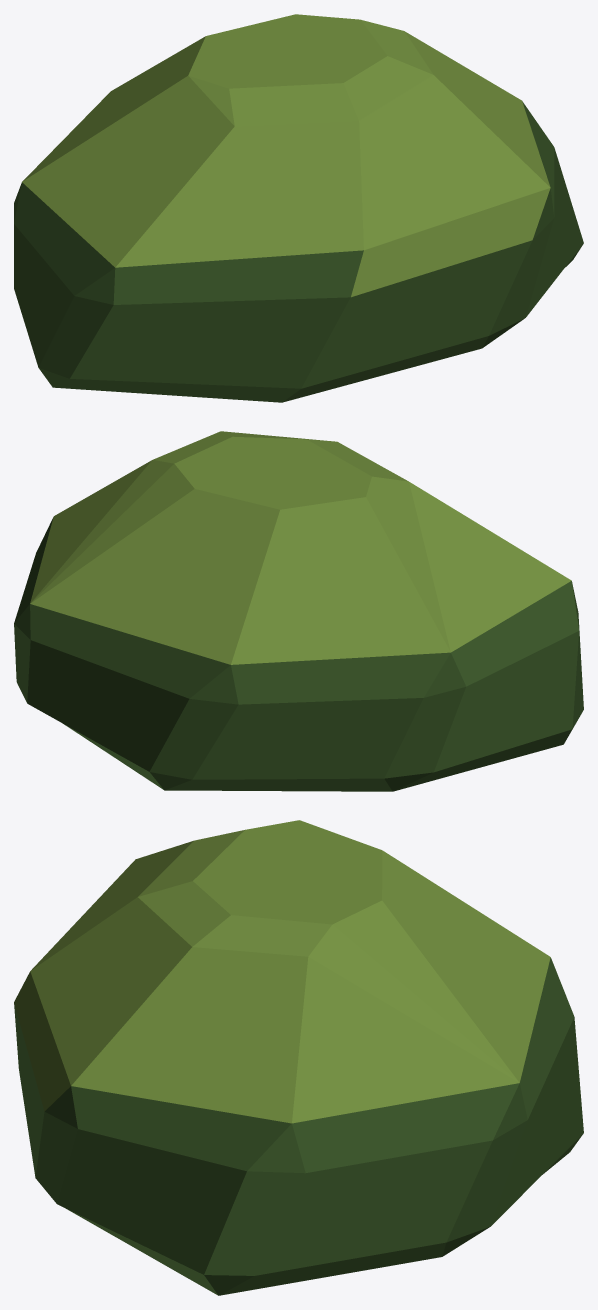
The model's file is gf_stone_mid_c.glb.
3 renders of one model, top to bottom at view 1: azimuth 30°, elevation 25°; view 2: azimuth 150°, elevation 25°; view 3: azimuth 270°, elevation 25°, orthographic. The views are drawn at different scales.
Visible parts, largest first — view 1: gf_stone_mid_c; view 2: gf_stone_mid_c; view 3: gf_stone_mid_c.
Boxes of the visible parts, x1,y1,x2,y2 form: gf_stone_mid_c: [14, 14, 583, 402]; gf_stone_mid_c: [14, 431, 583, 791]; gf_stone_mid_c: [14, 820, 583, 1295].
Size of the model in its own units: 0.2455 by 0.105 by 0.1938.
